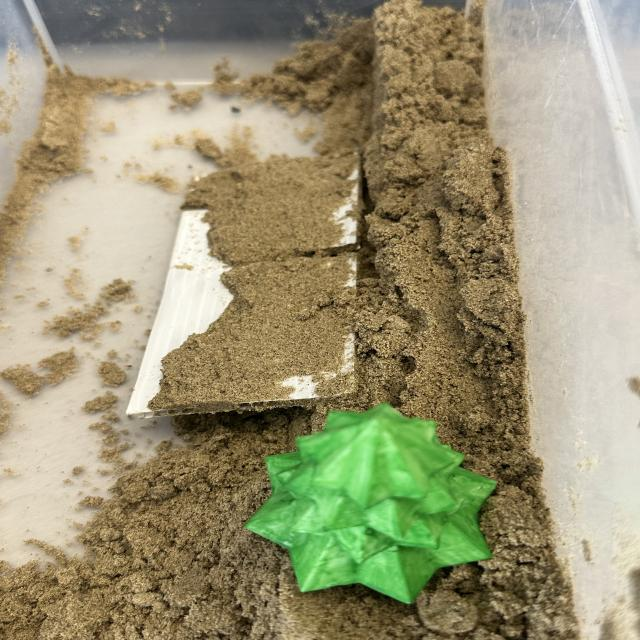tree: (241, 401, 500, 608)
